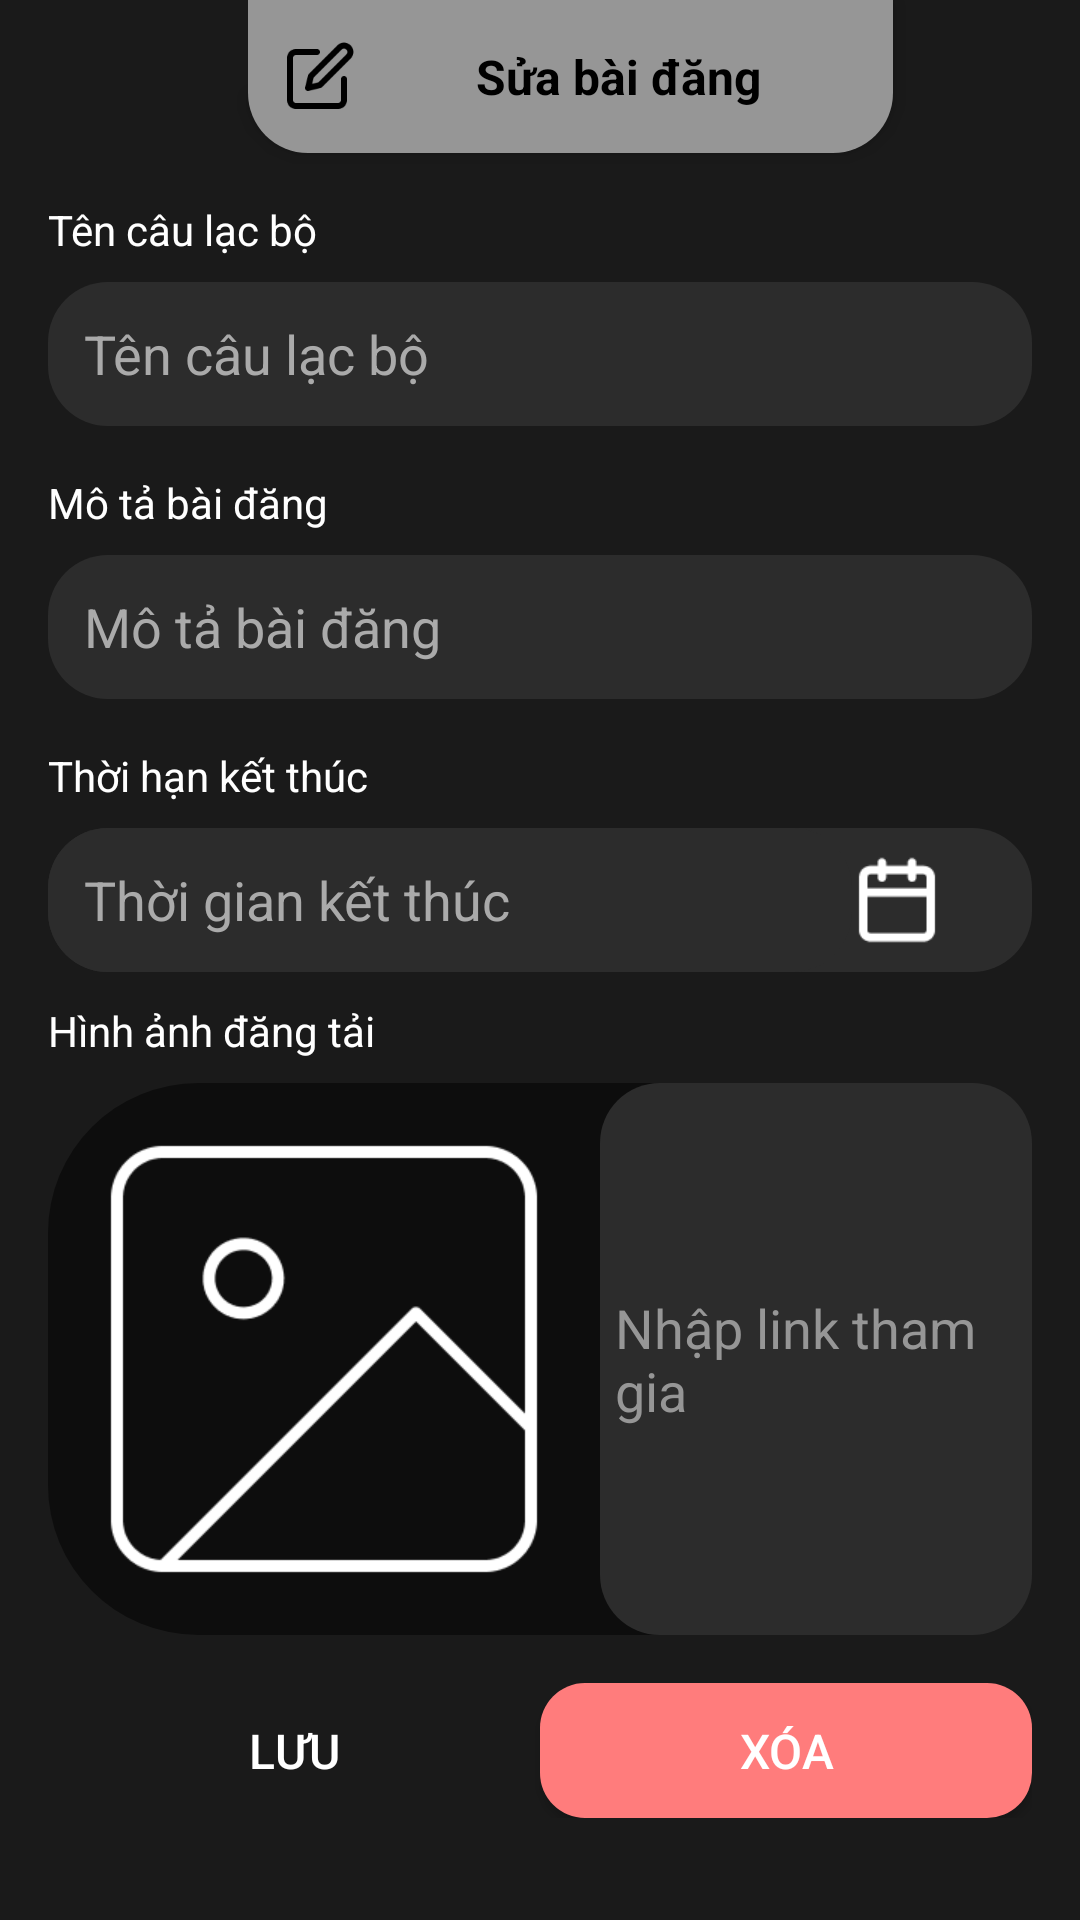

Icon bounding boxes for this 1080px×1920px phone screenshot, format [x1=x1, y1=y1, x2=x2, y2=y2]:
penblackadmin: [x1=287, y1=42, x2=354, y2=109]
